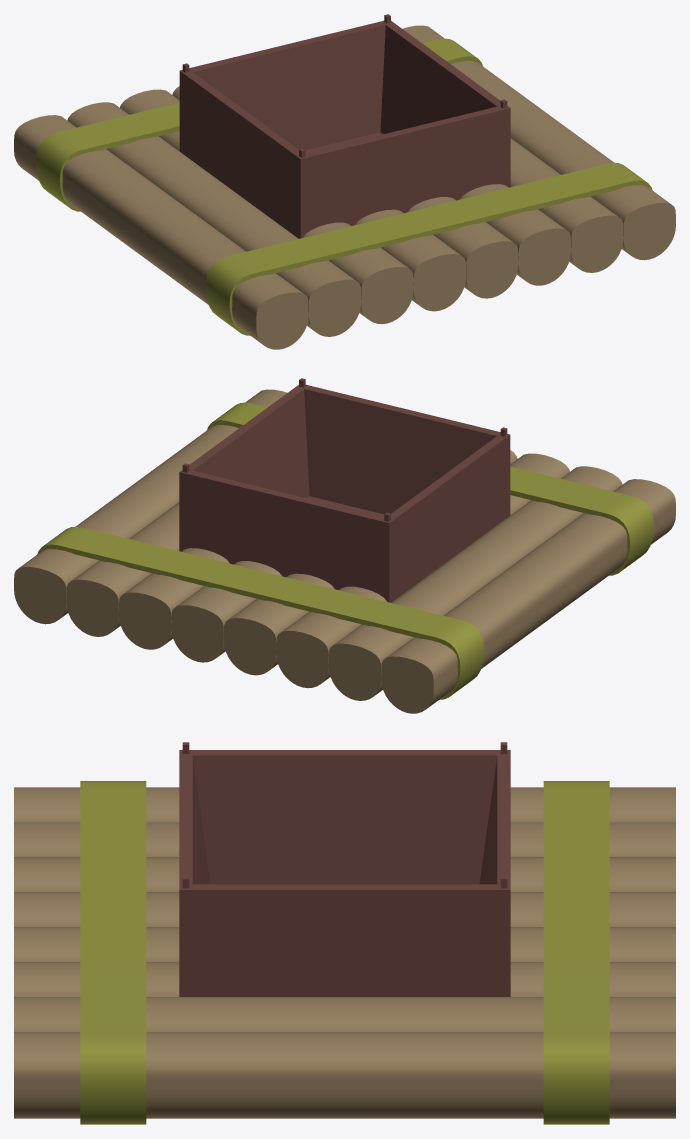
The model's file is WaterRaft.fbx.
The picture shows the model from 3 angles, top to bottom: view 1: azimuth 30°, elevation 25°; view 2: azimuth 150°, elevation 25°; view 3: azimuth 270°, elevation 25°; orthographic projection. The views are drawn at different scales.
Parts seen in each view (by area): view 1: WaterTile, Bucket, RaftBands.003; view 2: WaterTile, Bucket, RaftBands.003; view 3: WaterTile, Bucket, RaftBands.003.
Boxes of the visible parts, x1,y1,x2,y2 form: WaterTile: [14, 25, 675, 349]; Bucket: [179, 14, 510, 238]; RaftBands.003: [35, 38, 652, 335]; WaterTile: [14, 389, 675, 713]; Bucket: [179, 378, 510, 602]; RaftBands.003: [37, 402, 654, 699]; WaterTile: [14, 787, 675, 1118]; Bucket: [179, 742, 510, 996]; RaftBands.003: [80, 781, 609, 1124].
Bounding box in the file's own units: 101 × 31.16 × 100.
